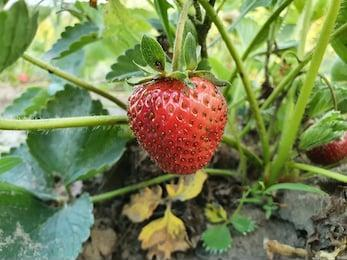Fresa: (126, 68, 234, 180)
